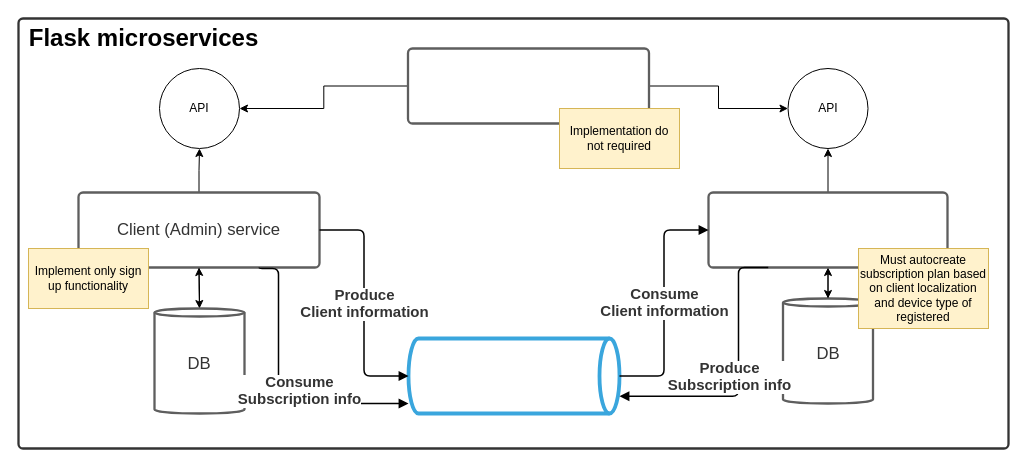
This 1027x467 diagram has some shape labels left out. Here are the shapes that lost their labels. From the top down, the centre of each, then its label:
(528,85): View (React, Angular, etc)
(827,229): Subscription service
(513,375): Inner http requests
